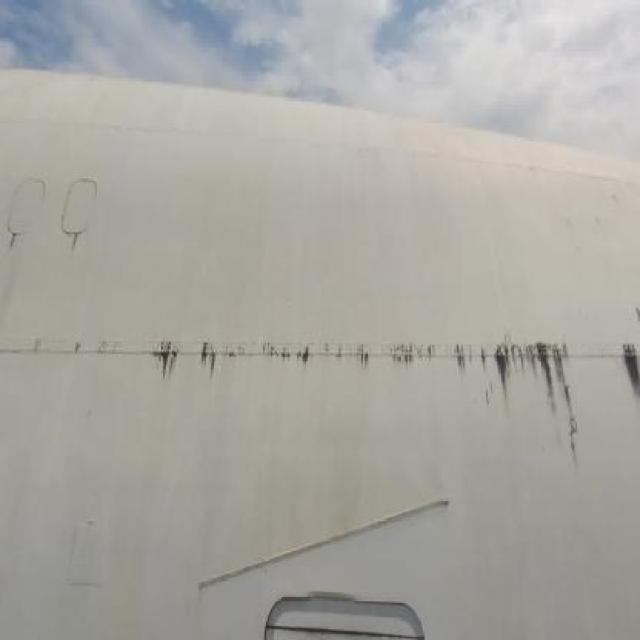Rust: (138, 322, 640, 464), (65, 231, 84, 269), (6, 232, 20, 259)
